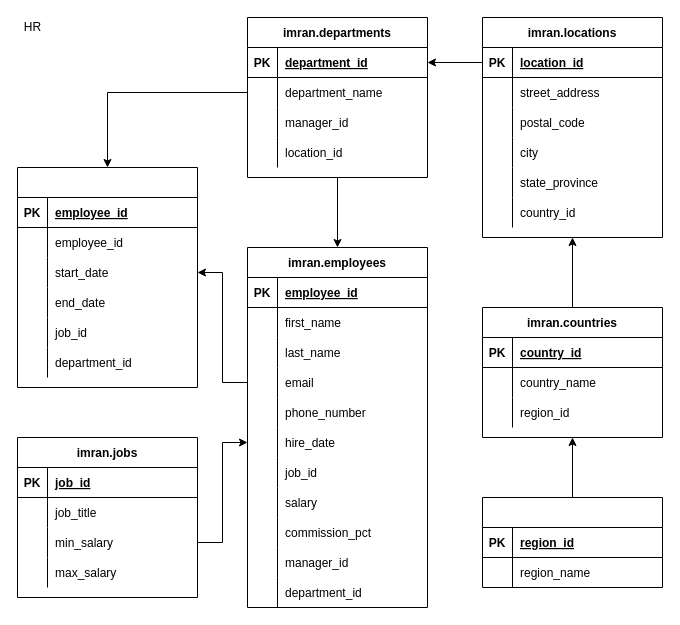
The diagram is 680 pixels wide and 625 high, and some of its shapes have lost their labels. The box of each missing label's shape, as (x1, y1, x2, y2) in pixels:
imran.job_history: (16, 166, 198, 388)
imran.regions: (482, 496, 662, 588)
